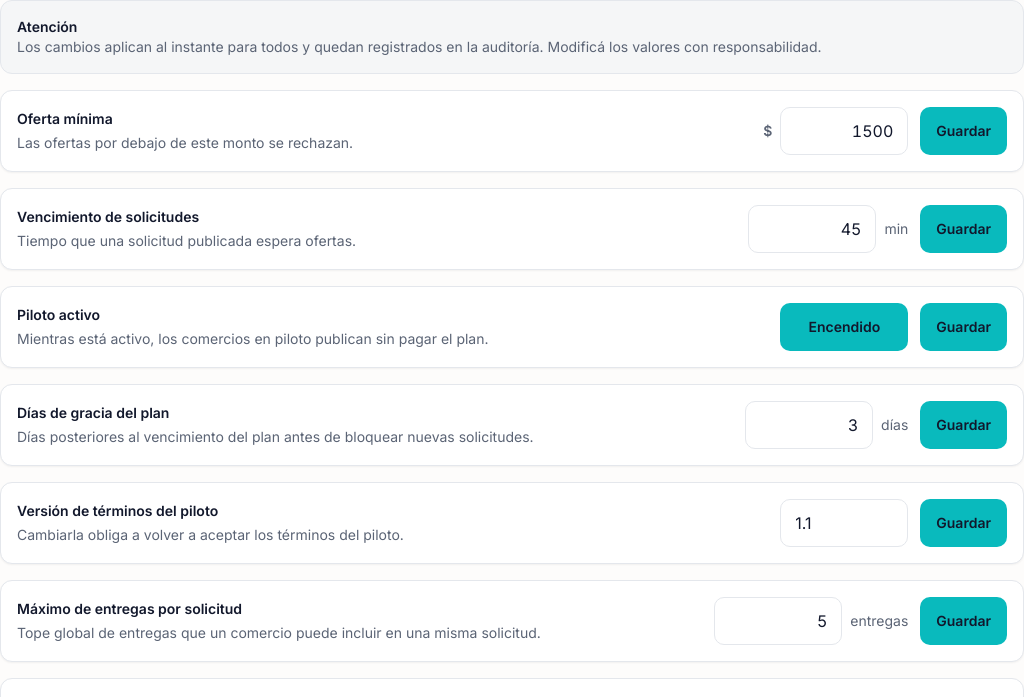
Test case: T-123: PlatformSettingsForm (A04) › si la sesión perdió aal2 al guardar días de gracia muestra el error y no refresca
Replace the text in the field labelled "Días de gracia del plan" with "5" at (809, 425), box 745,401 -> 873,449
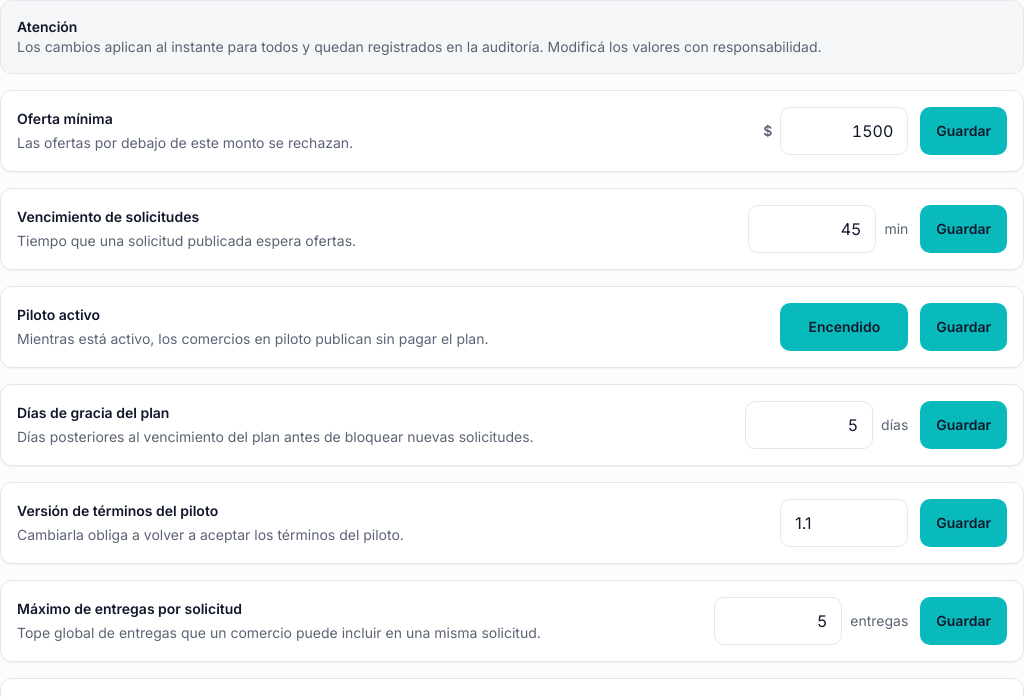
Click the button "Guardar" in the row of "Días de gracia del plan" at (964, 425), box 920,401 -> 1007,449
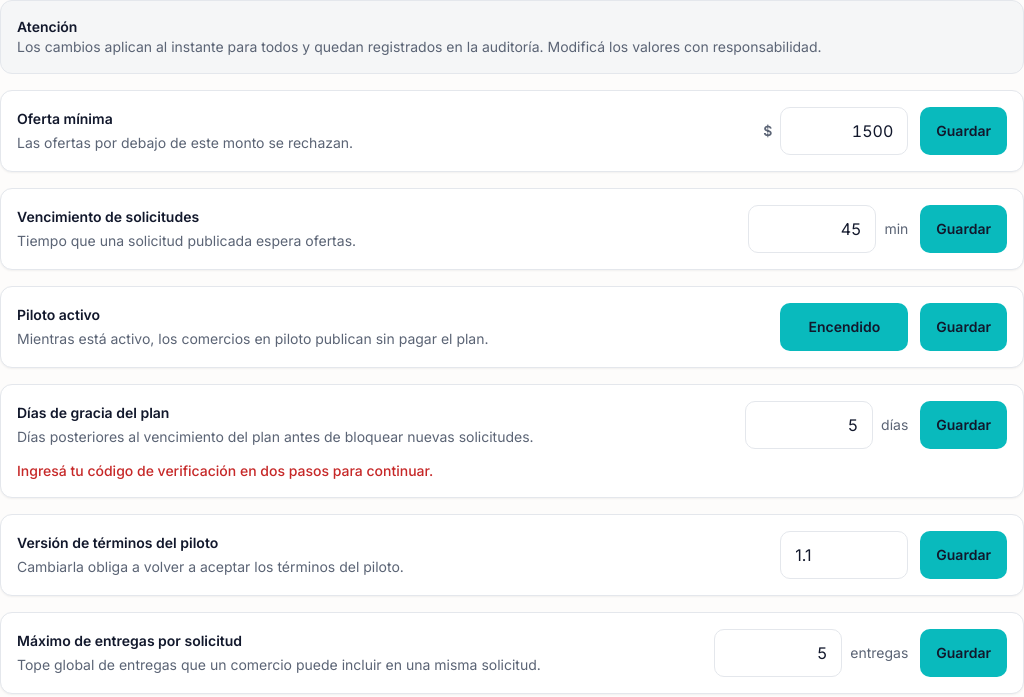
Result: the message "Ingresá tu código de verificación en dos pasos para continuar." is shown at 17,462 -> 433,479
